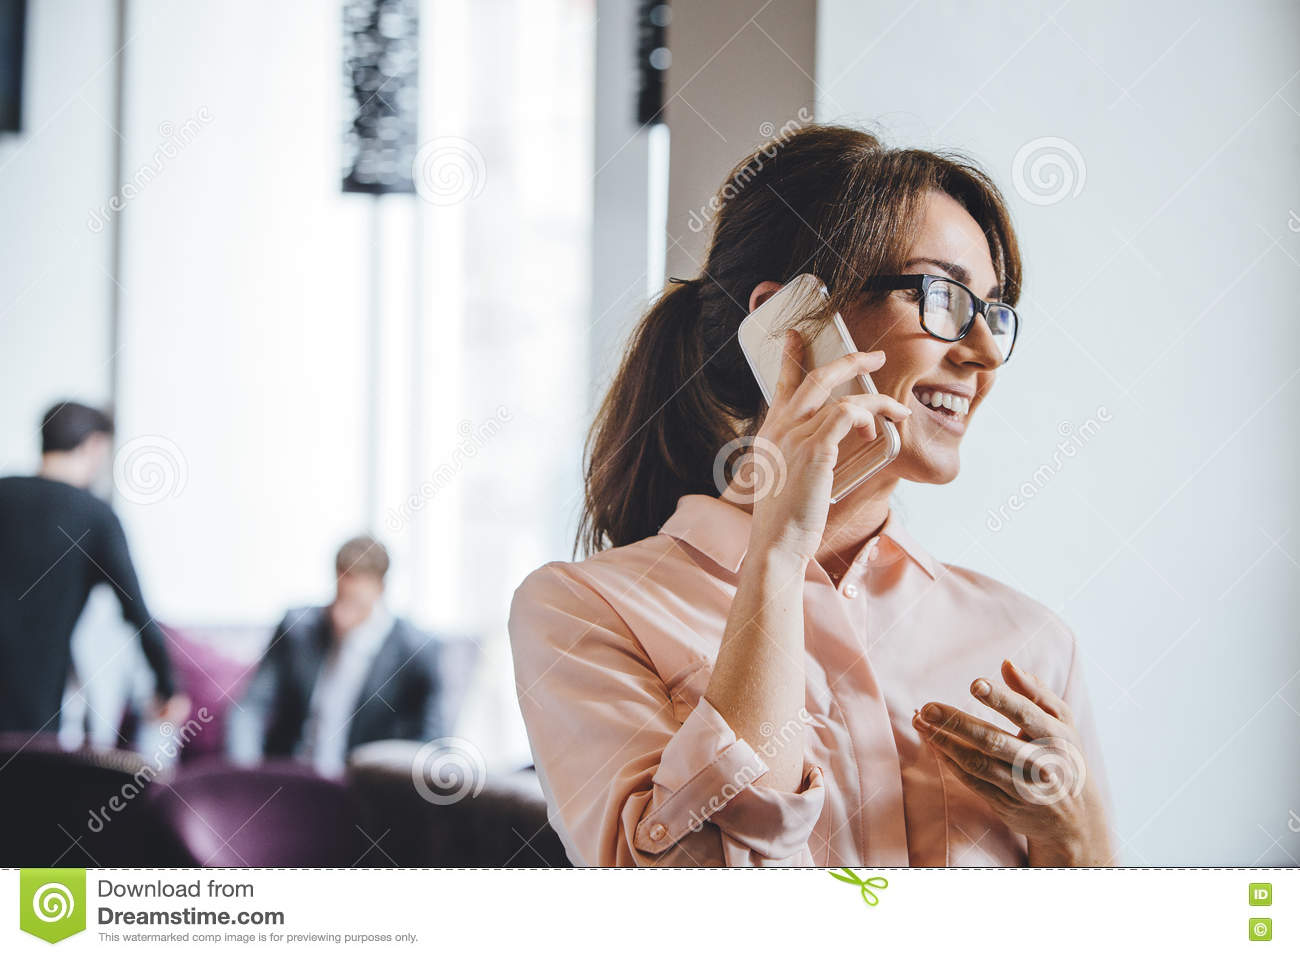phone: (743, 275, 904, 512)
talk: (737, 245, 1016, 591)
